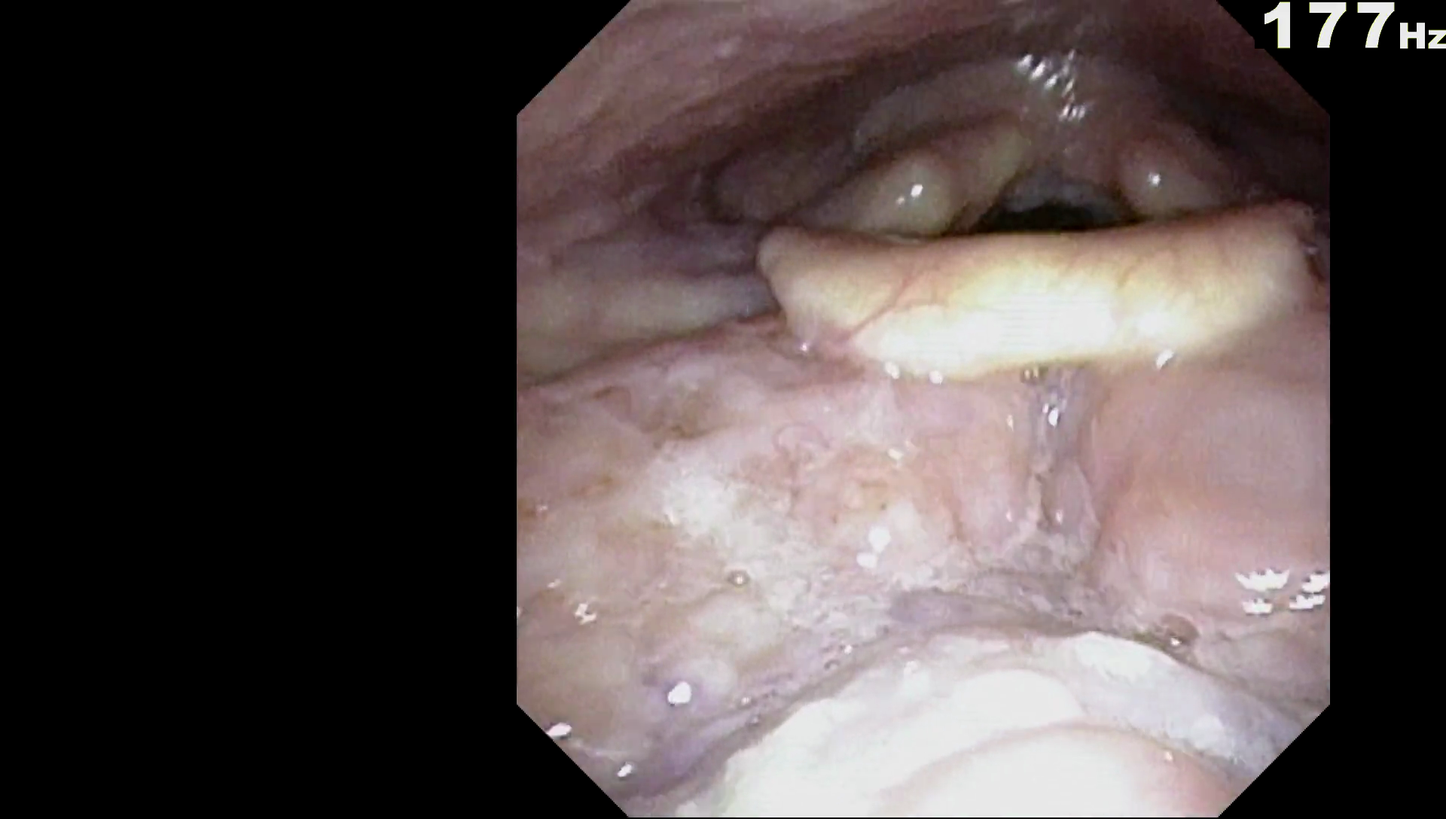trachea: (956, 160, 1144, 263)
